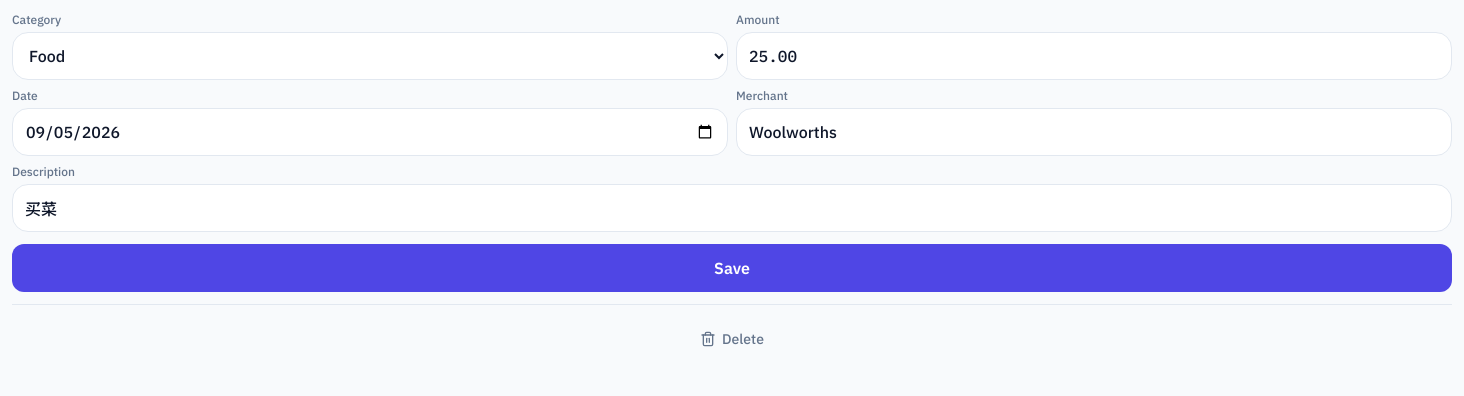
Test: EditForm › 日期格式不是 YYYY-MM-DD 时同样拒绝保存
This screenshot has width=1464, height=396.
Type "2026-9-5" into the date field labelled "Date" at (370, 132), box [12, 108, 728, 156]
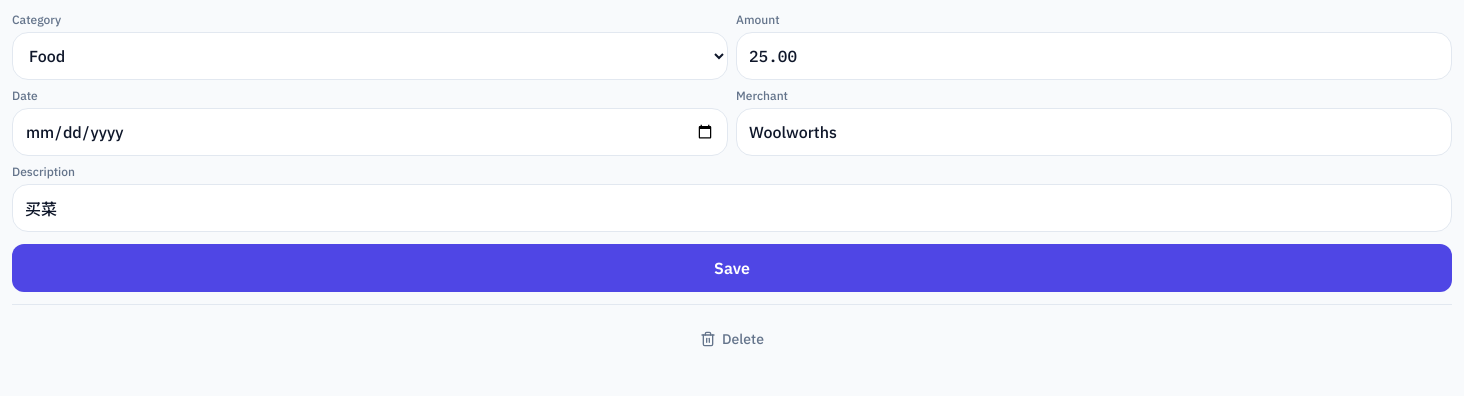
Click the button "Save" at (732, 268), box [12, 244, 1452, 292]
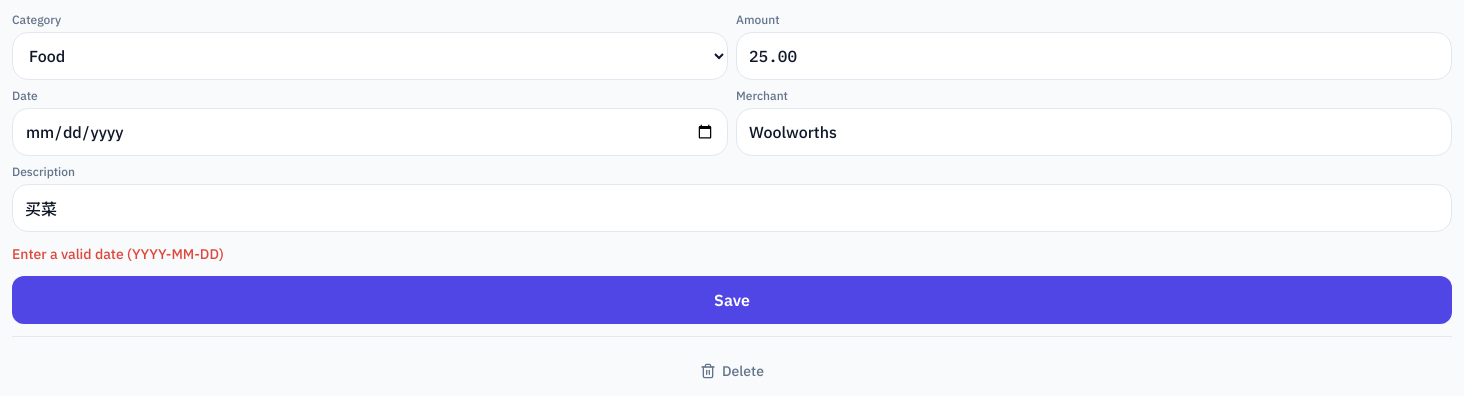
Result: the text "Enter a valid date (YYYY-MM-DD)" is shown at [12, 245, 224, 263]
